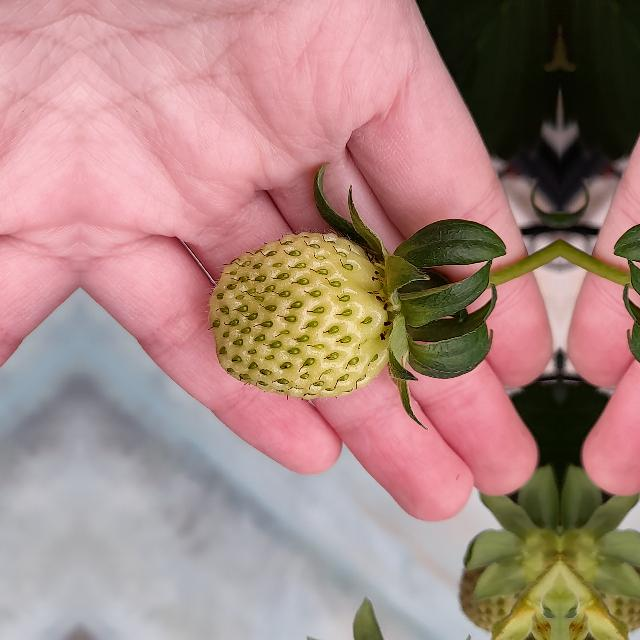Health_25: (208, 232, 392, 398)
